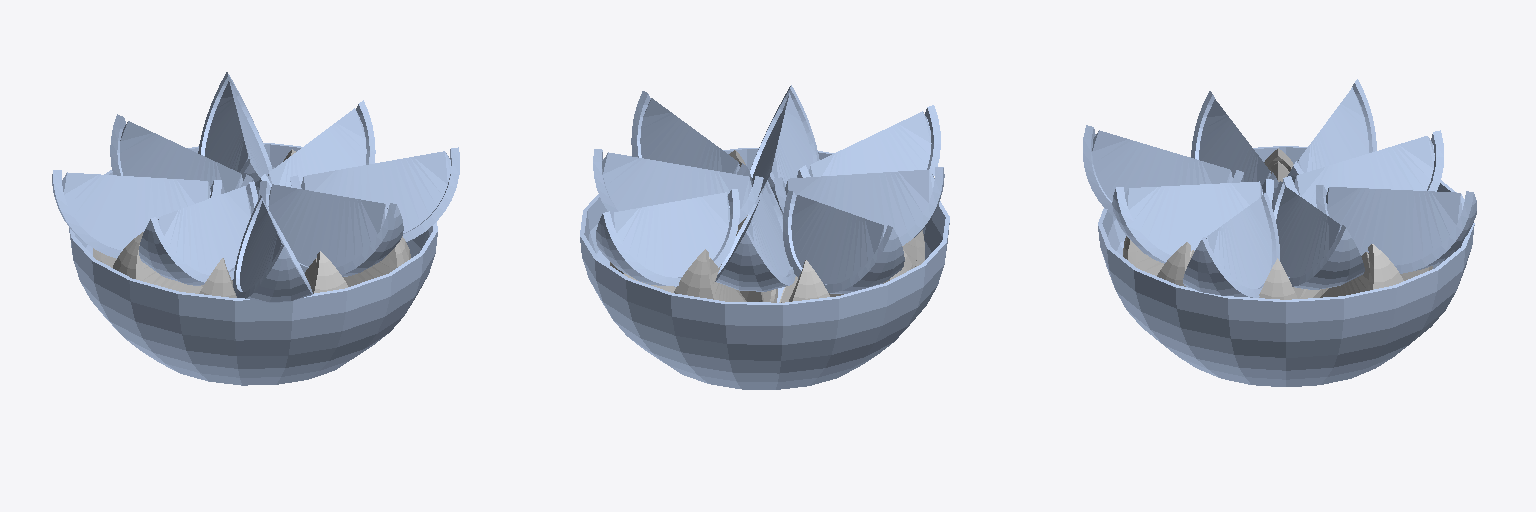
The model's file is BowlOfLemons.obj.
3 views of the same model, side by side, from view 1: azimuth 30°, elevation 25°; view 2: azimuth 150°, elevation 25°; view 3: azimuth 270°, elevation 25° (orthographic).
Visible parts, largest first — view 1: BowlOfLemons bowl, BowlOfLemons layerTwoLemons lemonWedge14, BowlOfLemons layerTwoLemons lemonWedge11, BowlOfLemons layerTwoLemons lemonWedge12, BowlOfLemons layerTwoLemons lemonWedge15, BowlOfLemons layerTwoLemons lemonWedge13, BowlOfLemons layerTwoLemons lemonWedge10, BowlOfLemons layerTwoLemons lemonWedge9, BowlOfLemons lemonWedge8 layerTwoLemons, layerOneLemons BowlOfLemons lemonWedge4, layerOneLemons BowlOfLemons lemonWedge6, layerOneLemons BowlOfLemons lemonWedge7 (+1 smaller); view 2: BowlOfLemons bowl, BowlOfLemons layerTwoLemons lemonWedge9, BowlOfLemons layerTwoLemons lemonWedge11, BowlOfLemons layerTwoLemons lemonWedge12, BowlOfLemons lemonWedge8 layerTwoLemons, BowlOfLemons layerTwoLemons lemonWedge13, BowlOfLemons layerTwoLemons lemonWedge10, BowlOfLemons layerTwoLemons lemonWedge15, BowlOfLemons layerTwoLemons lemonWedge14, layerOneLemons BowlOfLemons lemonWedge2, layerOneLemons BowlOfLemons lemonWedge3, layerOneLemons BowlOfLemons lemonWedge7; view 3: BowlOfLemons bowl, BowlOfLemons layerTwoLemons lemonWedge9, BowlOfLemons layerTwoLemons lemonWedge14, BowlOfLemons layerTwoLemons lemonWedge15, BowlOfLemons lemonWedge8 layerTwoLemons, BowlOfLemons layerTwoLemons lemonWedge13, BowlOfLemons layerTwoLemons lemonWedge10, BowlOfLemons layerTwoLemons lemonWedge11, BowlOfLemons layerTwoLemons lemonWedge12, layerOneLemons BowlOfLemons lemonWedge1, lemonWedge layerOneLemons BowlOfLemons, layerOneLemons BowlOfLemons lemonWedge7 (+2 smaller).
Part boxes in pixels (left/top/right/bottom): BowlOfLemons bowl: left=69, top=143, right=437, bottom=385; BowlOfLemons layerTwoLemons lemonWedge14: left=259, top=181, right=403, bottom=276; BowlOfLemons layerTwoLemons lemonWedge11: left=52, top=170, right=221, bottom=258; BowlOfLemons layerTwoLemons lemonWedge12: left=139, top=181, right=257, bottom=285; BowlOfLemons layerTwoLemons lemonWedge15: left=290, top=147, right=459, bottom=241; BowlOfLemons layerTwoLemons lemonWedge13: left=233, top=195, right=312, bottom=302; BowlOfLemons layerTwoLemons lemonWedge10: left=110, top=114, right=253, bottom=193; BowlOfLemons layerTwoLemons lemonWedge9: left=198, top=72, right=272, bottom=187; BowlOfLemons lemonWedge8 layerTwoLemons: left=256, top=100, right=375, bottom=199; layerOneLemons BowlOfLemons lemonWedge4: left=113, top=232, right=202, bottom=293; layerOneLemons BowlOfLemons lemonWedge6: left=305, top=251, right=347, bottom=293; layerOneLemons BowlOfLemons lemonWedge7: left=343, top=236, right=410, bottom=286; BowlOfLemons bowl: left=580, top=148, right=949, bottom=389; BowlOfLemons layerTwoLemons lemonWedge9: left=596, top=189, right=739, bottom=286; BowlOfLemons layerTwoLemons lemonWedge11: left=783, top=190, right=904, bottom=293; BowlOfLemons layerTwoLemons lemonWedge12: left=774, top=167, right=944, bottom=245; BowlOfLemons lemonWedge8 layerTwoLemons: left=593, top=149, right=763, bottom=223; BowlOfLemons layerTwoLemons lemonWedge13: left=797, top=105, right=940, bottom=177; BowlOfLemons layerTwoLemons lemonWedge10: left=715, top=180, right=795, bottom=291; BowlOfLemons layerTwoLemons lemonWedge15: left=631, top=91, right=752, bottom=185; BowlOfLemons layerTwoLemons lemonWedge14: left=750, top=85, right=819, bottom=214; layerOneLemons BowlOfLemons lemonWedge2: left=674, top=249, right=744, bottom=301; layerOneLemons BowlOfLemons lemonWedge3: left=789, top=260, right=829, bottom=301; layerOneLemons BowlOfLemons lemonWedge7: left=721, top=150, right=777, bottom=302; BowlOfLemons bowl: left=1098, top=146, right=1474, bottom=386; BowlOfLemons layerTwoLemons lemonWedge9: left=1316, top=185, right=1476, bottom=273; BowlOfLemons layerTwoLemons lemonWedge14: left=1112, top=179, right=1273, bottom=263; BowlOfLemons layerTwoLemons lemonWedge15: left=1183, top=192, right=1279, bottom=297; BowlOfLemons lemonWedge8 layerTwoLemons: left=1272, top=181, right=1364, bottom=289; BowlOfLemons layerTwoLemons lemonWedge13: left=1083, top=125, right=1243, bottom=217; BowlOfLemons layerTwoLemons lemonWedge10: left=1283, top=130, right=1443, bottom=207; BowlOfLemons layerTwoLemons lemonWedge11: left=1287, top=79, right=1376, bottom=182; BowlOfLemons layerTwoLemons lemonWedge12: left=1191, top=91, right=1278, bottom=202; layerOneLemons BowlOfLemons lemonWedge1: left=1320, top=244, right=1403, bottom=297; lemonWedge layerOneLemons BowlOfLemons: left=1259, top=258, right=1297, bottom=299; layerOneLemons BowlOfLemons lemonWedge7: left=1157, top=242, right=1194, bottom=286.
Bounding box in the file's own units: 0.8946 × 0.4973 × 0.9157.